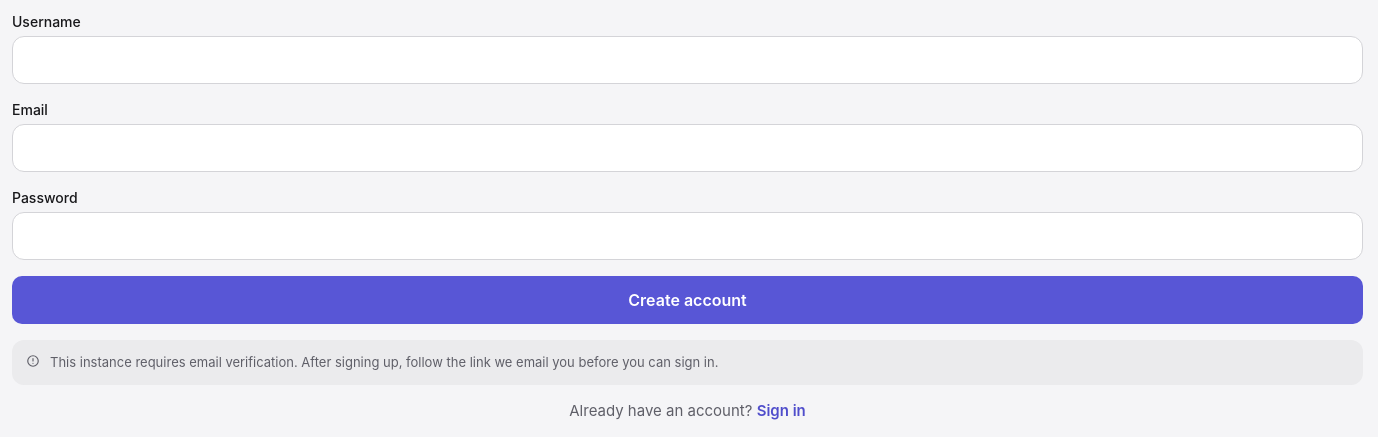
Scenario: SignupForm (W7 sign-up policies) › shows the check-your-email state on a verification_pending outcome
The width and height of the screenshot is (1378, 437).
Check: the text "requires email verification" is shown, box [50, 354, 718, 370]
Type "ada" into the field labelled "Username" at (688, 60), box [12, 36, 1363, 84]
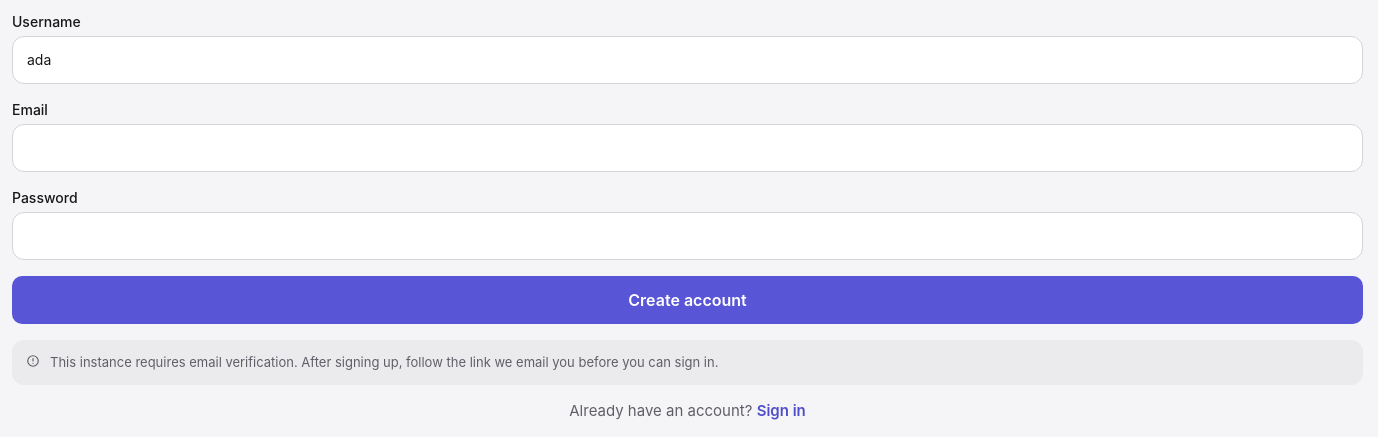
Type "ada@example.test" into the field labelled "Email" at (688, 148), box [12, 124, 1363, 172]
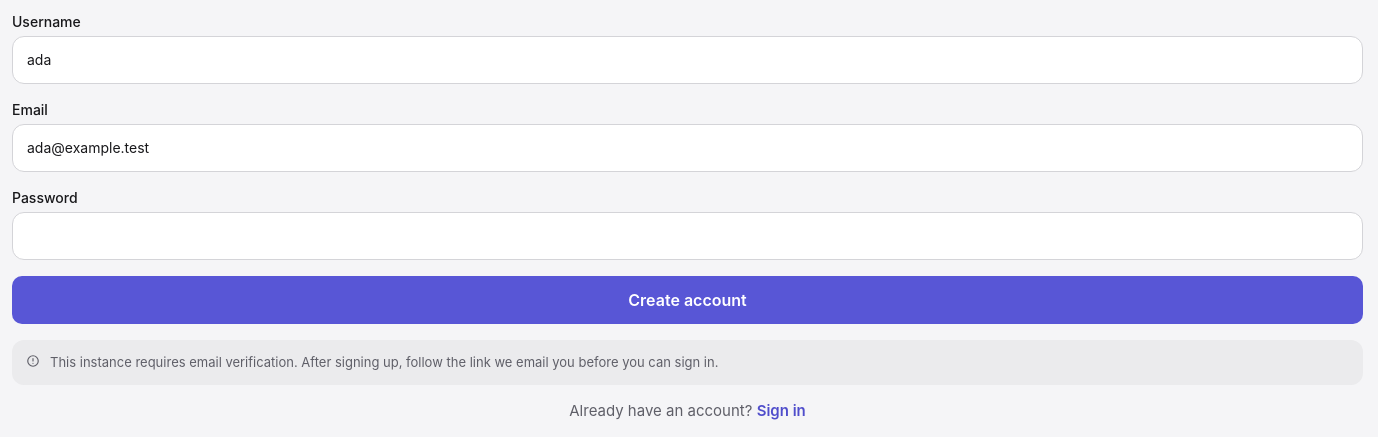
Type "supersecret" into the password field labelled "Password" at (688, 236), box [12, 212, 1363, 260]
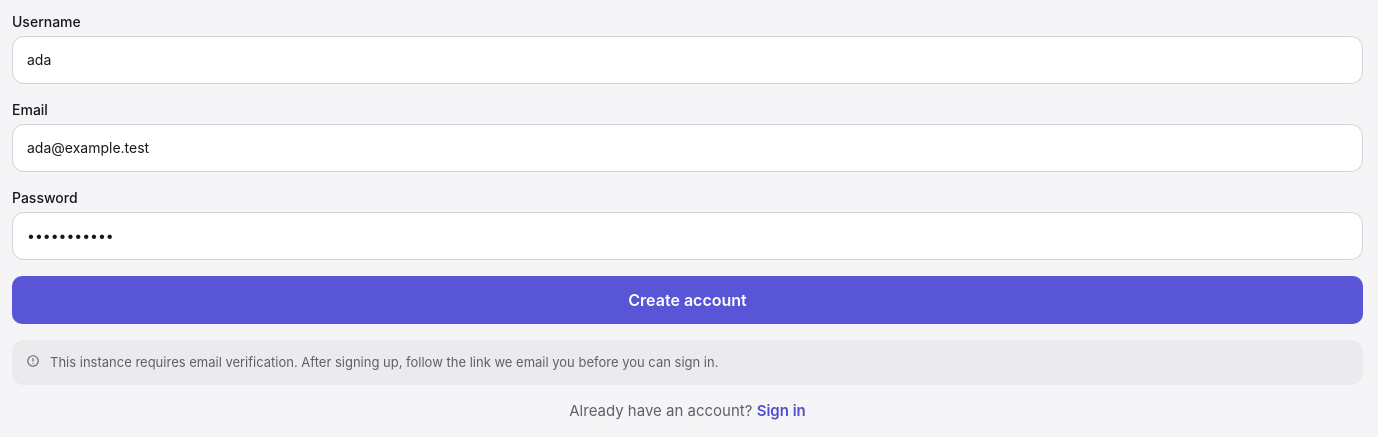
Click the button "Create account" at (688, 300), box [12, 276, 1363, 324]
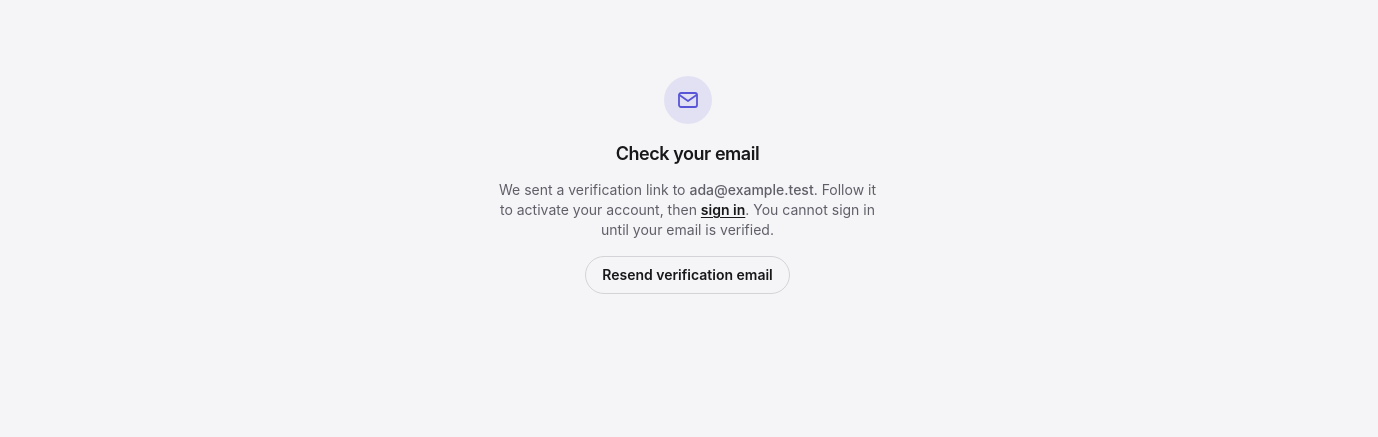
Check: the text "Check your email" is shown, box [616, 140, 759, 168]
Check: the text "verification link" is shown, box [499, 181, 690, 198]
Check: the button "Resend verification email" is shown, box [585, 256, 790, 294]
